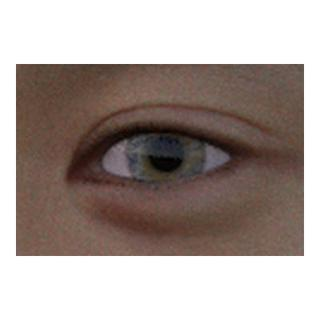pupil: (149, 137, 183, 171)
